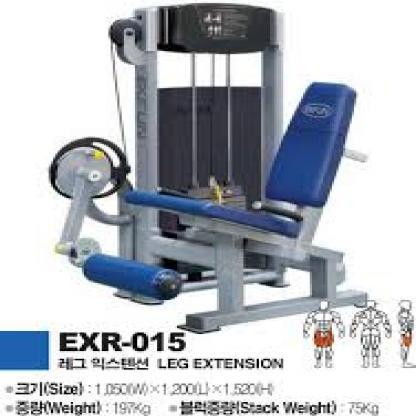leg extension: (39, 1, 389, 340)
